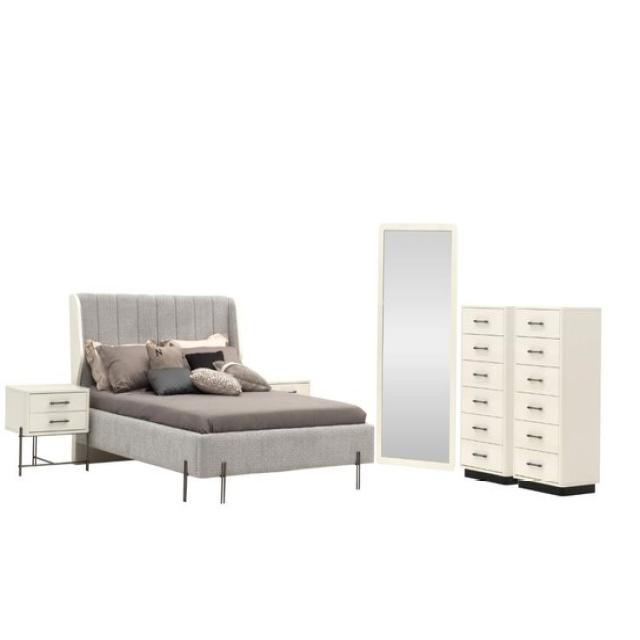obstacle: (68, 291, 375, 503), (462, 307, 598, 490), (5, 382, 90, 476)
